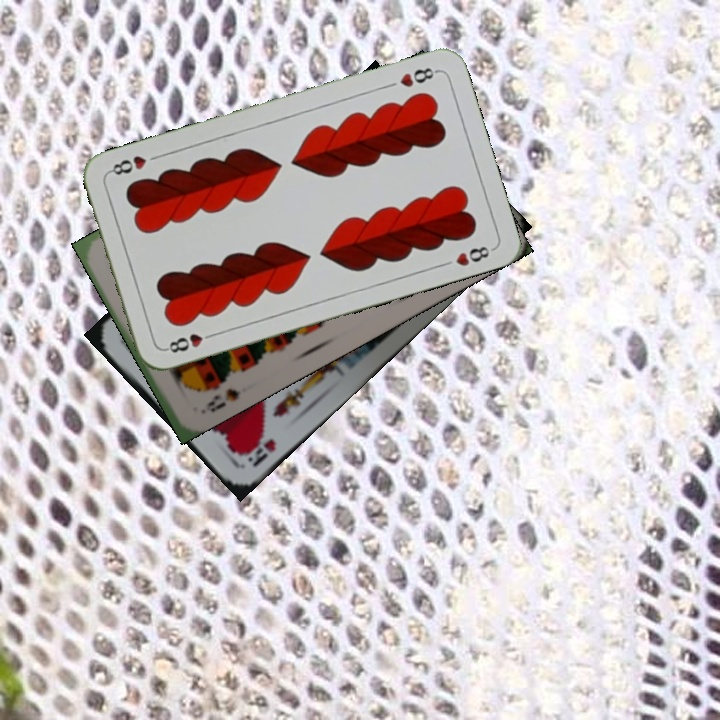H8: (161, 328, 219, 356), (395, 63, 441, 90)
HK: (236, 431, 279, 470)
S8: (196, 384, 244, 417)
